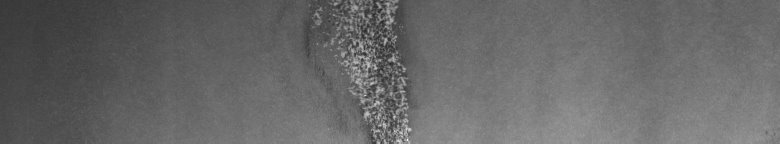hc: (300, 4, 420, 136)
